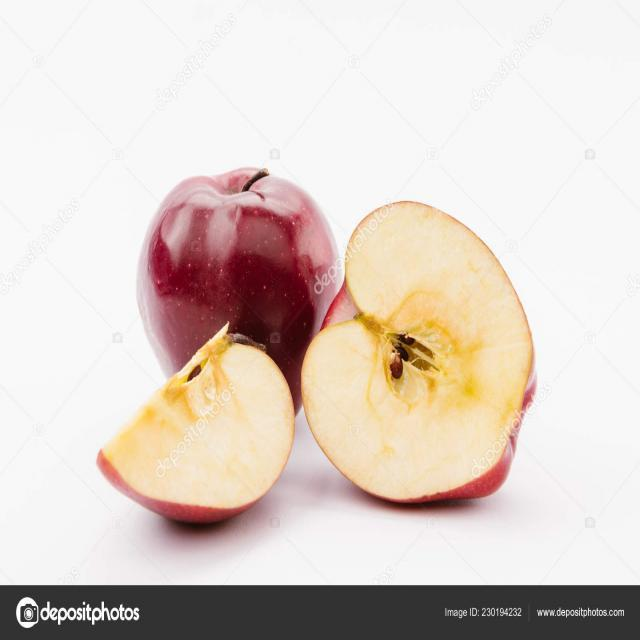Fresh Apple: (135, 175, 327, 398)
Rotten: (343, 200, 540, 502), (90, 343, 300, 527)
